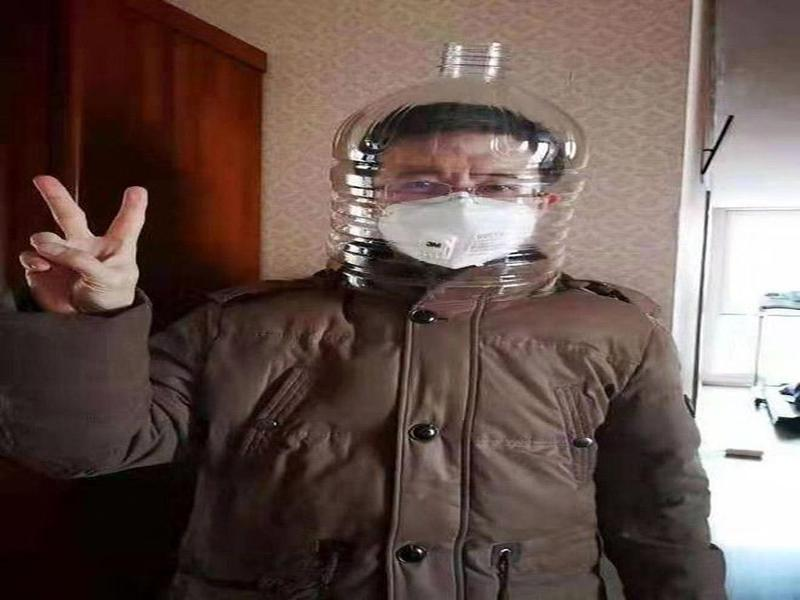with_mask: (367, 129, 552, 273)
